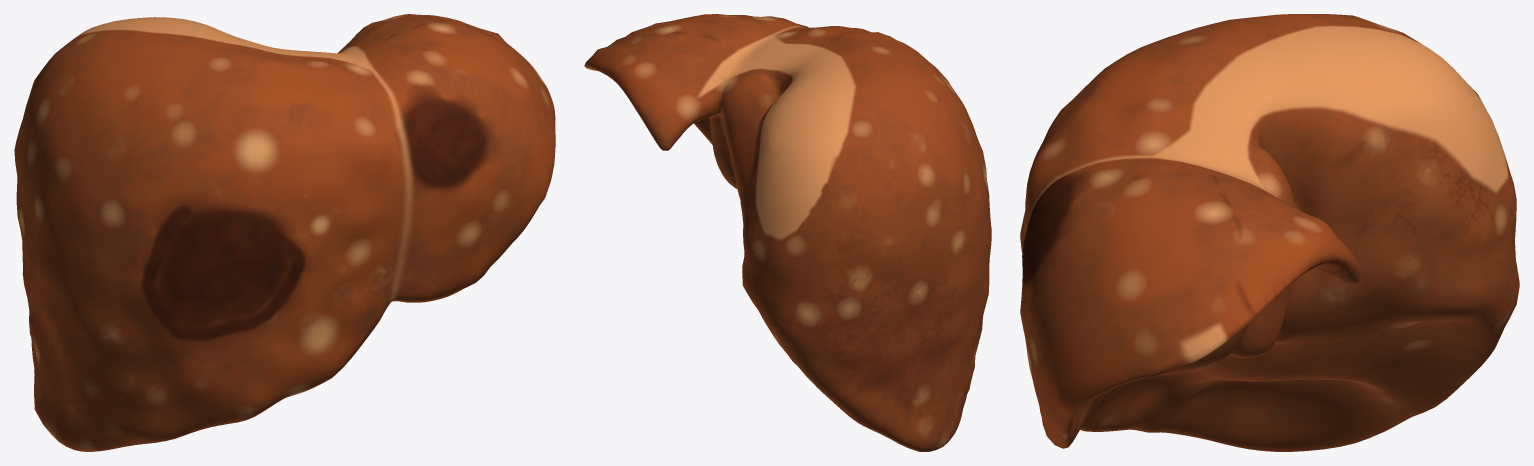
The model's file is Liver_HCC.fbx.
3 views of the same model, side by side, from view 1: azimuth 30°, elevation 25°; view 2: azimuth 150°, elevation 25°; view 3: azimuth 270°, elevation 25° (orthographic). The views are drawn at different scales.
Visible parts, largest first — view 1: liver_low; view 2: liver_low; view 3: liver_low.
Boxes of the visible parts, left/top/right/bottom form: liver_low: left=14, top=14, right=555, bottom=451; liver_low: left=584, top=14, right=991, bottom=451; liver_low: left=1020, top=14, right=1519, bottom=451.
Bounding box in the file's own units: 20.73 × 16.68 × 15.6.
Materials: 1 (1 with a texture image).
